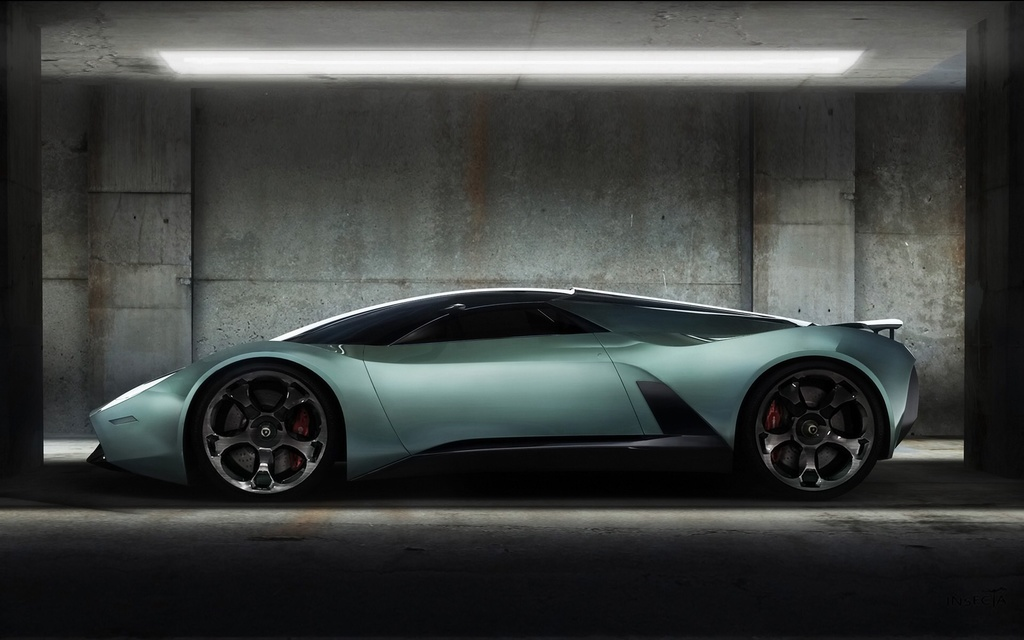cars: (88, 284, 926, 507)
